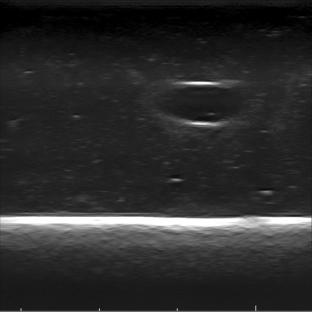vessel: (163, 81, 246, 129)
